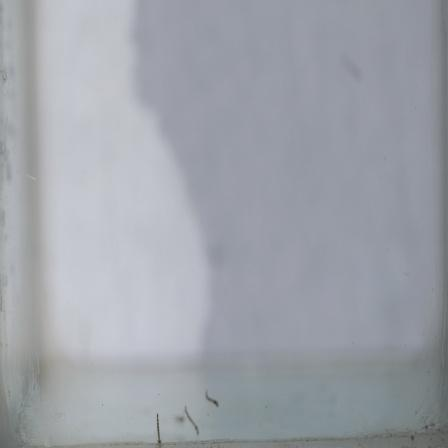Jentik-Nyamuk: (181, 402, 200, 434), (153, 411, 166, 443), (203, 387, 221, 410)
